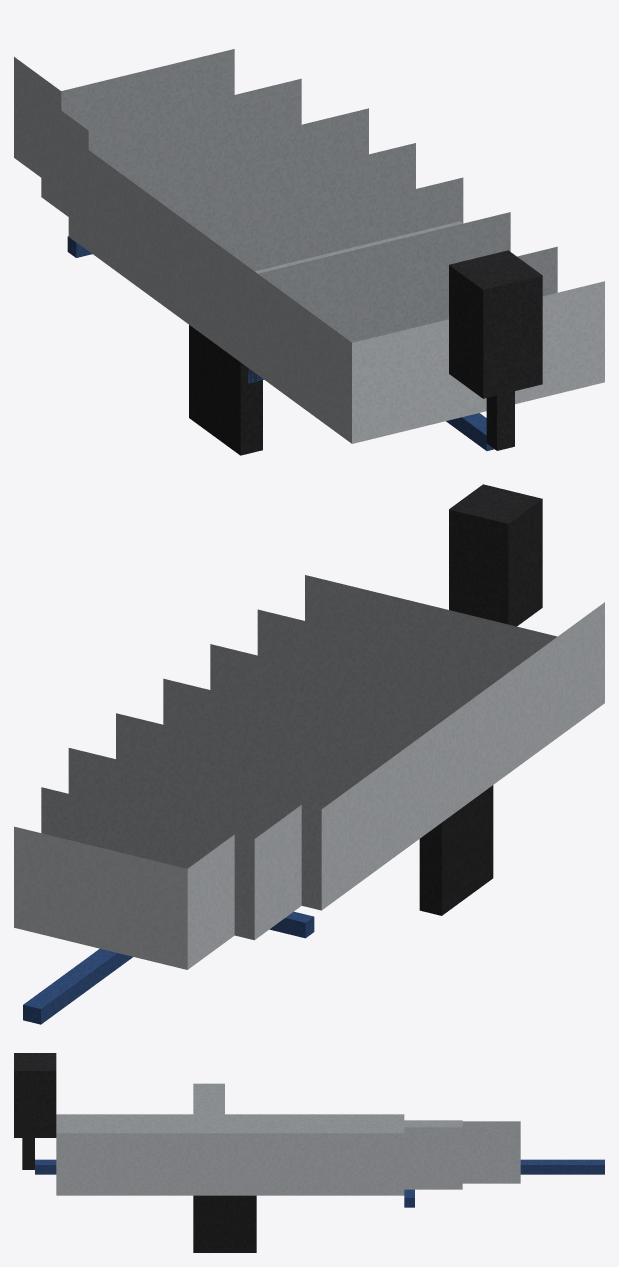
The model's file is boat_trailer.glb.
3 renders of one model, top to bottom at view 1: azimuth 30°, elevation 25°; view 2: azimuth 150°, elevation 25°; view 3: azimuth 270°, elevation 25°, orthographic. The views are drawn at different scales.
Parts seen in each view (by area): view 1: boat_trailer; view 2: boat_trailer; view 3: boat_trailer.
Part boxes in pixels (x1,y1,x2,y2): boat_trailer: [14, 49, 604, 455]; boat_trailer: [14, 484, 604, 1024]; boat_trailer: [14, 1053, 604, 1252].
Size of the model in its own units: 1.7 by 1.6 by 5.6.
Materials: 5 (5 with a texture image).
